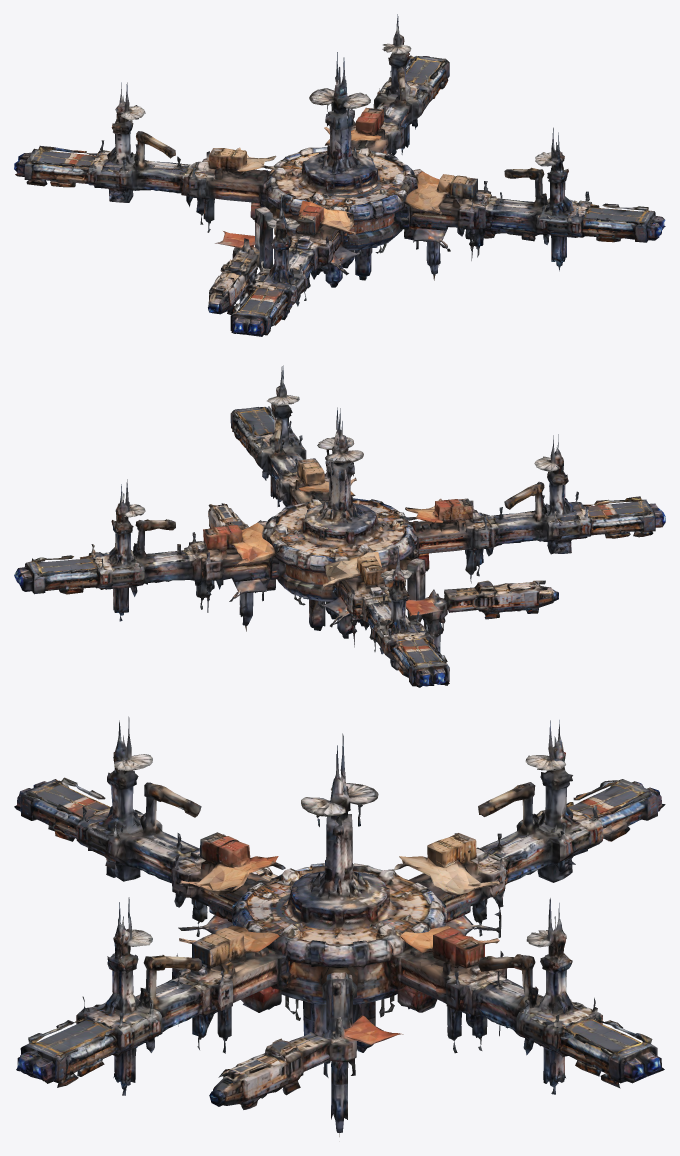
The model's file is savagers_cross_station.glb.
3 views of the same model, one above another, from view 1: azimuth 30°, elevation 25°; view 2: azimuth 150°, elevation 25°; view 3: azimuth 270°, elevation 25° (orthographic). The views are drawn at different scales.
Parts seen in each view (by area): view 1: savagers_cross_station; view 2: savagers_cross_station; view 3: savagers_cross_station.
Part boxes in pixels (x1,y1,x2,y2): savagers_cross_station: (14, 14, 665, 336); savagers_cross_station: (14, 365, 665, 687); savagers_cross_station: (14, 716, 665, 1136).
Bounding box in the file's own units: 0.7323 × 0.4117 × 0.6976.
1 material, 1 textured.
